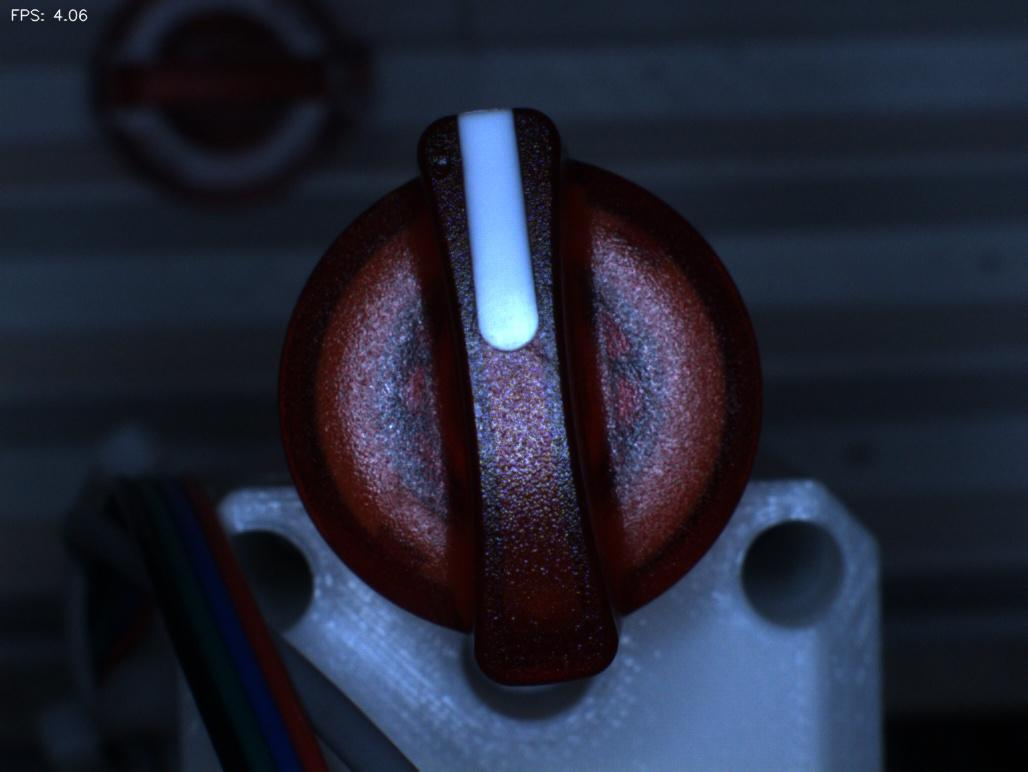Choc: (399, 122, 475, 204)
